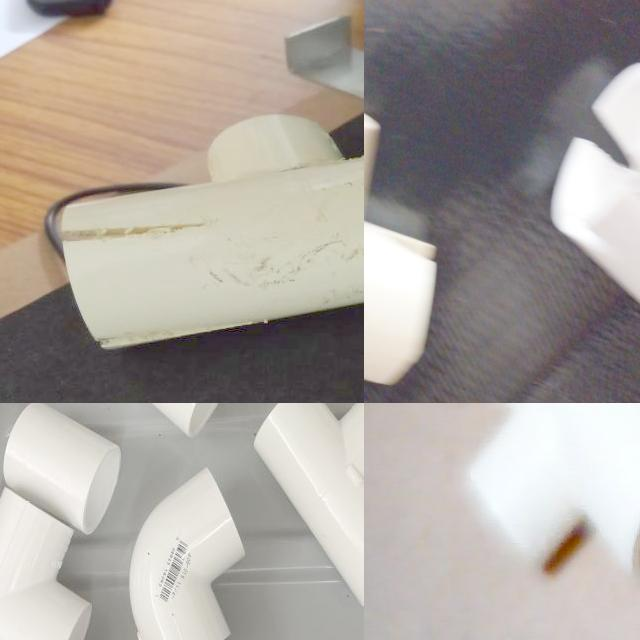Defective: (63, 221, 223, 243), (95, 329, 235, 351), (313, 193, 364, 243), (309, 166, 338, 170)
L Joint: (364, 39, 541, 350), (128, 470, 247, 640)
T Joint: (45, 117, 364, 352), (463, 403, 640, 589), (251, 403, 364, 607), (0, 489, 92, 640)
